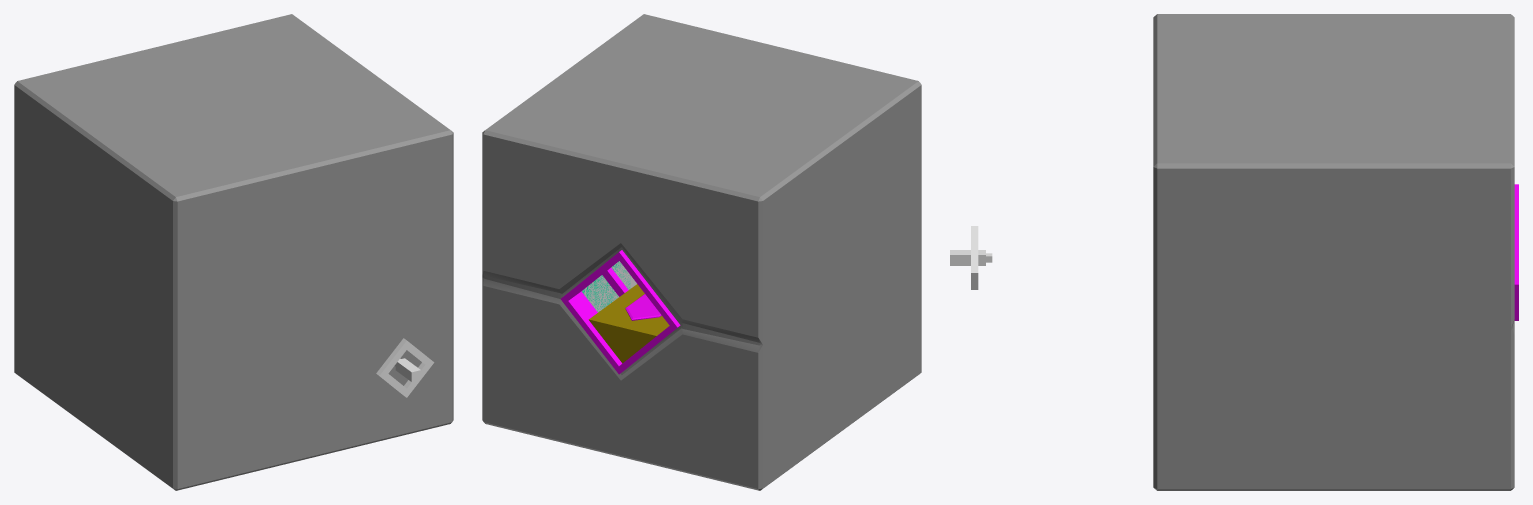
The model's file is SM_Tombe.FBX.
3 views of the same model, side by side, from view 1: azimuth 30°, elevation 25°; view 2: azimuth 150°, elevation 25°; view 3: azimuth 270°, elevation 25° (orthographic). The views are drawn at different scales.
Parts seen in each view (by area): view 1: Box067, Box068; view 2: Box067, Box028, Box029, Box056, Box071, Box058; view 3: Box067, Box028.
Part boxes in pixels (box(x1,y1,x2,y2)): Box067: box(14, 14, 453, 490); Box068: box(376, 338, 434, 397); Box067: box(482, 14, 921, 490); Box028: box(560, 250, 680, 374); Box029: box(588, 284, 669, 363); Box056: box(581, 261, 636, 312); Box071: box(582, 261, 630, 311); Box058: box(625, 294, 661, 320); Box067: box(1153, 14, 1514, 490); Box028: box(1514, 184, 1518, 320).
Size of the model in its own units: 1500 by 1500 by 2362.
